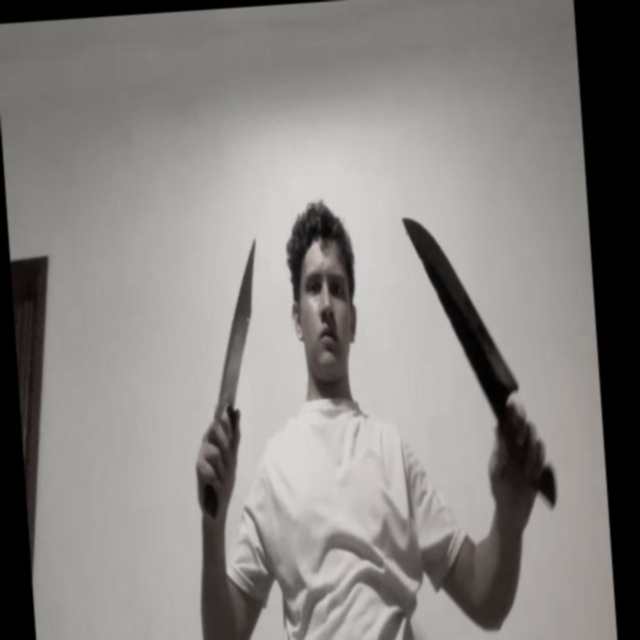Sharp-Object: (401, 209, 518, 398), (206, 240, 268, 421)
